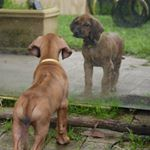puppy: (8, 31, 76, 150), (68, 10, 132, 101)
